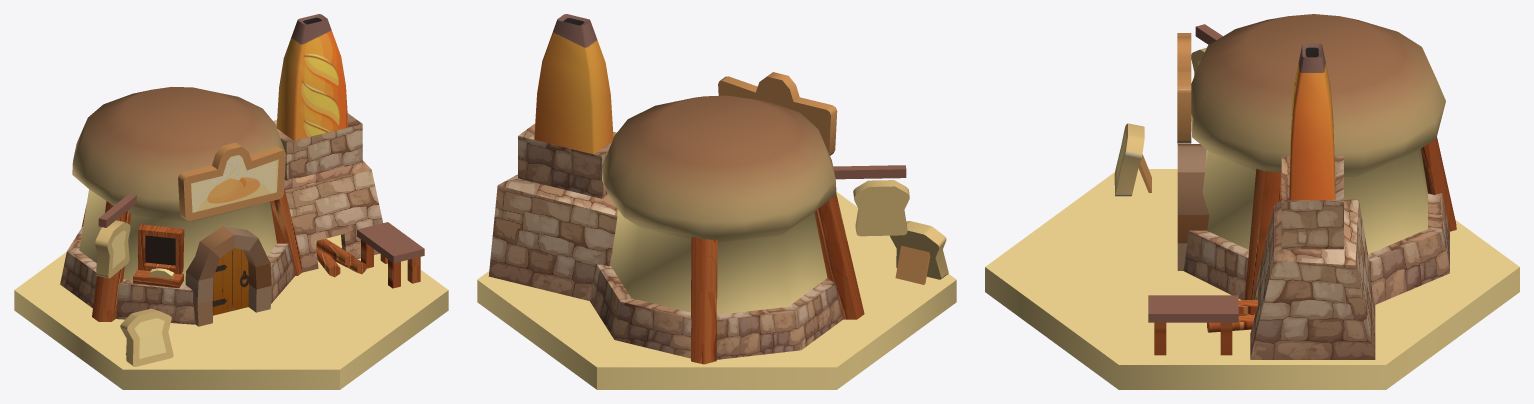
The model's file is HouseBakery.fbx.
3 renders of one model, left to right at view 1: azimuth 30°, elevation 25°; view 2: azimuth 150°, elevation 25°; view 3: azimuth 270°, elevation 25°, orthographic. The views are drawn at different scales.
Parts seen in each view (by area): view 1: HouseBakery; view 2: HouseBakery; view 3: HouseBakery.
Boxes of the visible parts, left/top/right/bottom form: HouseBakery: left=14, top=14, right=448, bottom=389; HouseBakery: left=477, top=14, right=956, bottom=389; HouseBakery: left=985, top=14, right=1519, bottom=389.
Size of the model in its own units: 343 by 249 by 396.
Materials: 1 (1 with a texture image).
